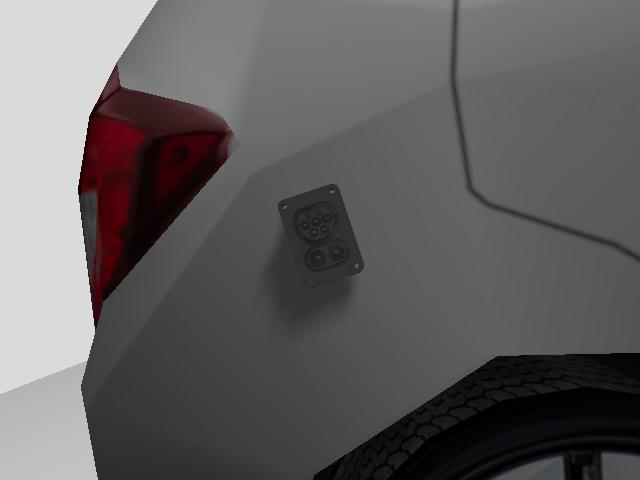EV-socket: (275, 181, 366, 291)
